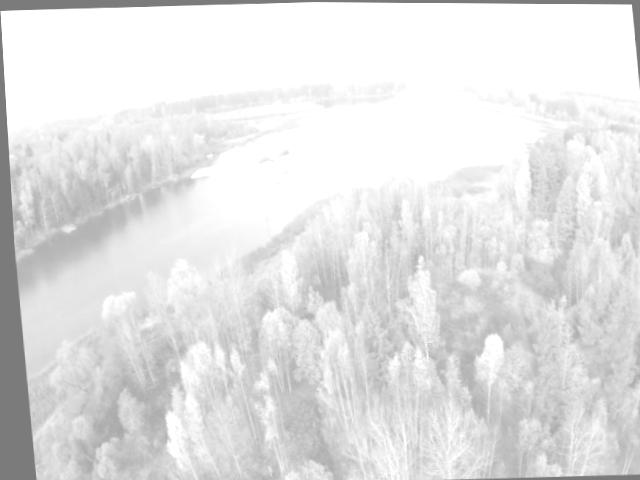hedef: (179, 104, 373, 235)
